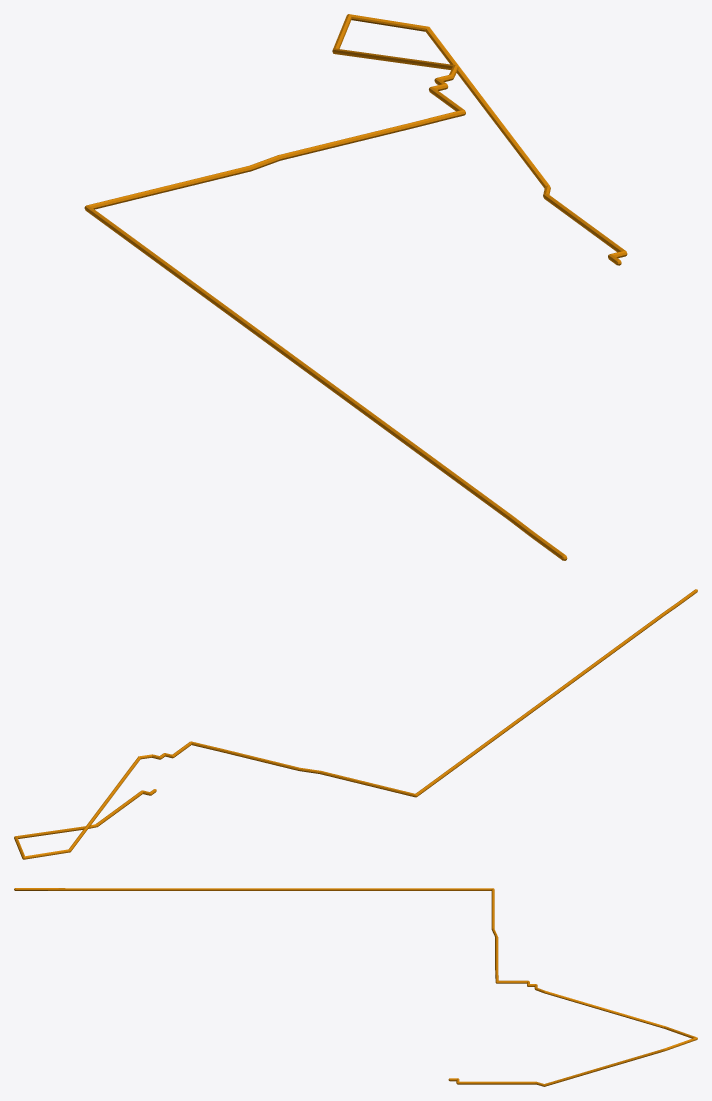
3 renders of one model, top to bottom at view 1: azimuth 30°, elevation 25°; view 2: azimuth 150°, elevation 25°; view 3: azimuth 270°, elevation 25°, orthographic. The views are drawn at different scales.
Size of the model in its own units: 1907 by 520 by 4365.
